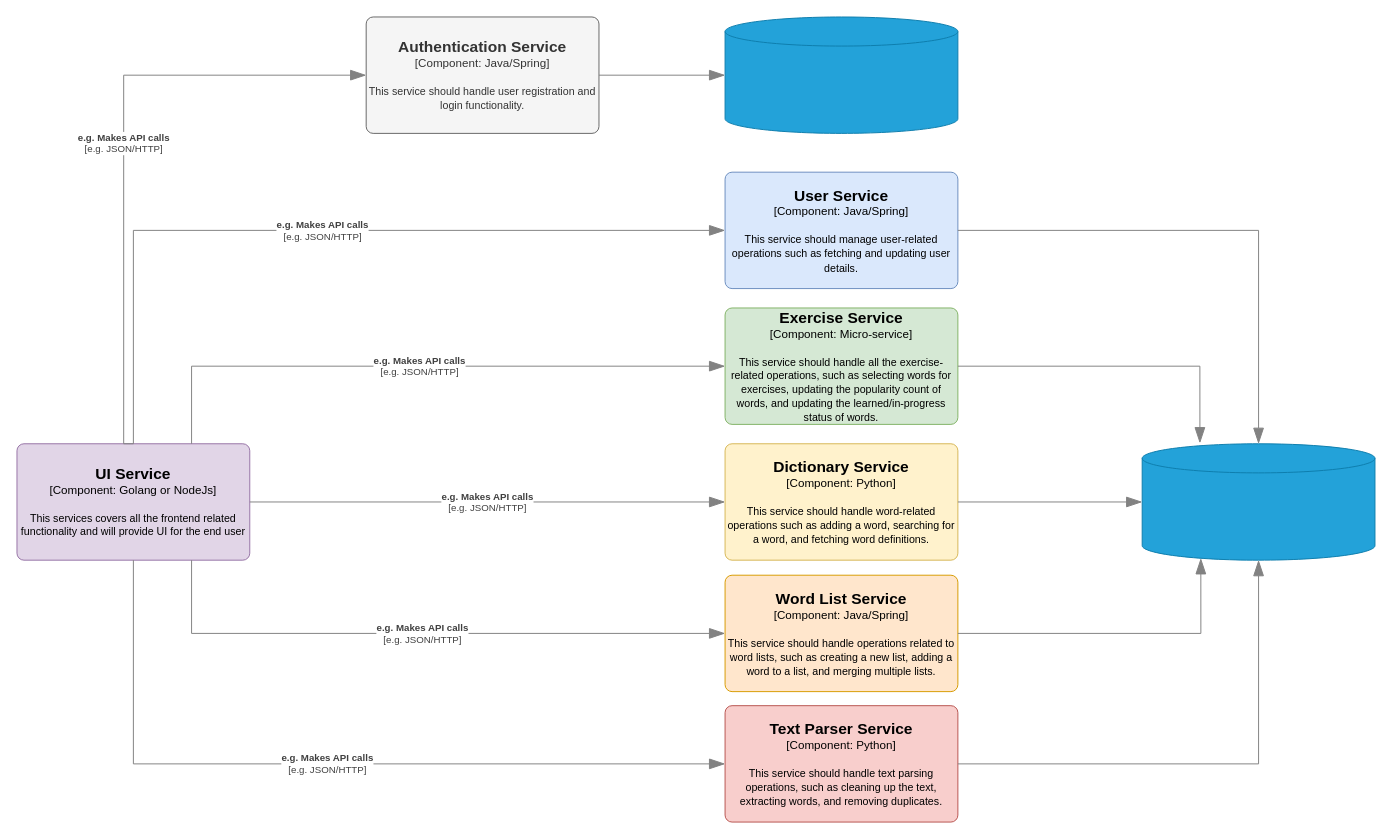
The diagram is 1392 pixels wide and 839 high, and some of its shapes have lost their labels. The shapes that lost their labels are listed below. From the top down, each one's box as (x1, y1, x2, y2) in pixels, then its label:
(724, 16, 958, 133): Authentication Storage [Container: *PostgreSQL] Relational Data Base
(1141, 443, 1375, 560): Application Storage [Container: PostgreSQL] Relational Data Base
